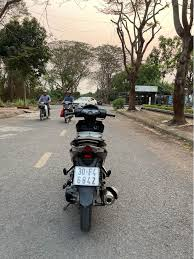Bien-so: (74, 166, 99, 186)
